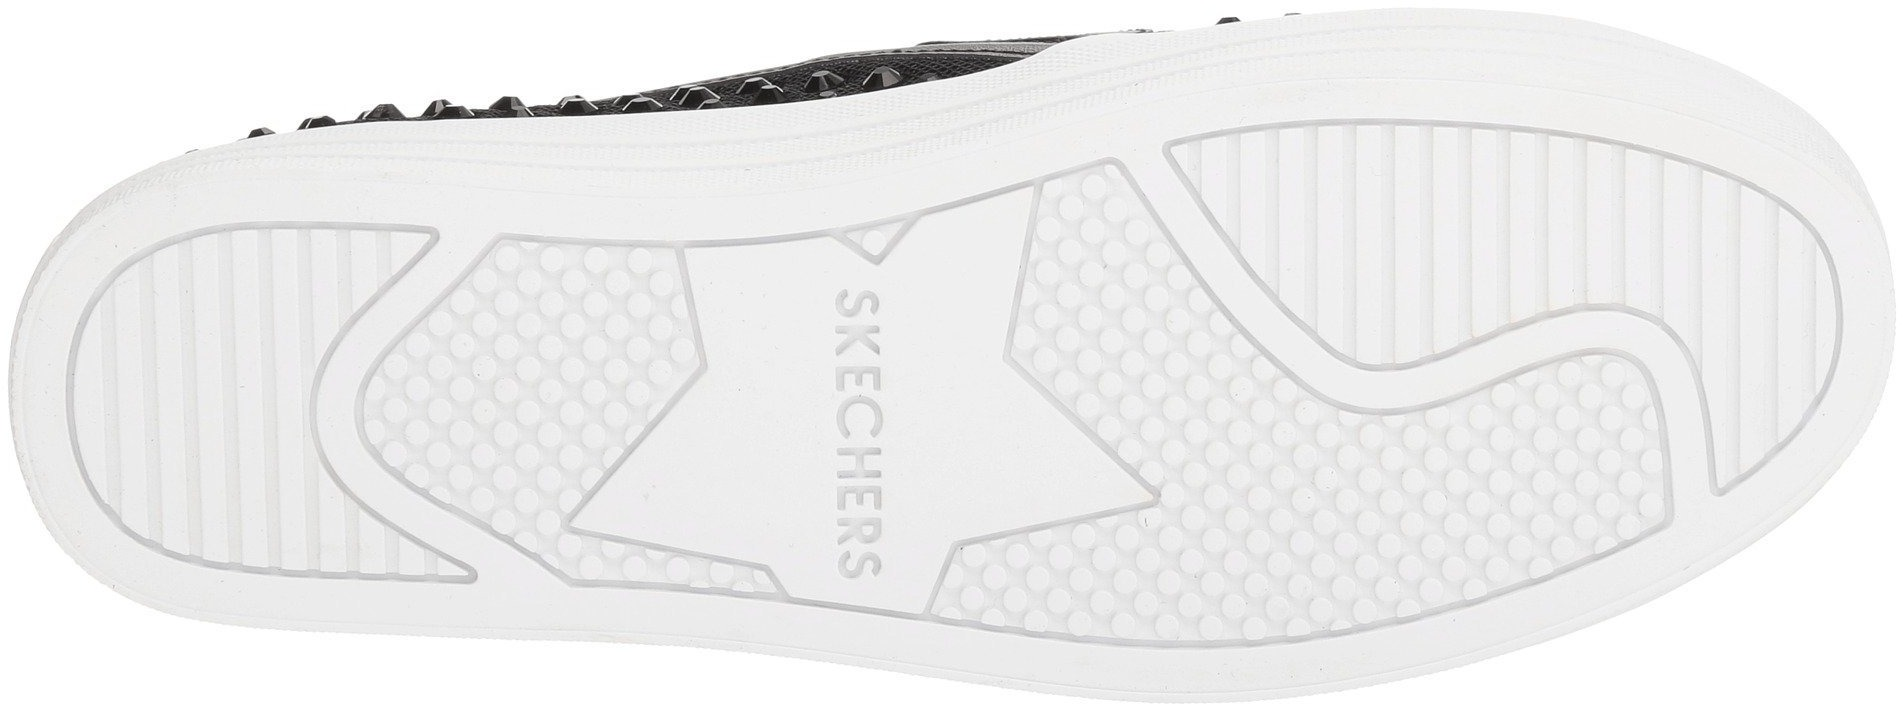chevron: (975, 259, 1132, 452), (306, 329, 459, 524), (523, 435, 675, 573), (653, 299, 738, 393), (928, 530, 1013, 608)
circle: (1157, 419, 1477, 603), (485, 246, 640, 445), (975, 259, 1132, 452), (306, 329, 459, 524), (494, 259, 654, 430), (1486, 386, 1648, 546), (523, 435, 675, 573), (653, 299, 738, 393), (829, 206, 924, 283), (928, 530, 1013, 608)
line: (93, 303, 311, 509), (1308, 140, 1518, 331), (1663, 191, 1794, 330)
quad: (1242, 130, 1547, 282)
text: (797, 279, 905, 590)
triangle: (829, 206, 924, 283)
